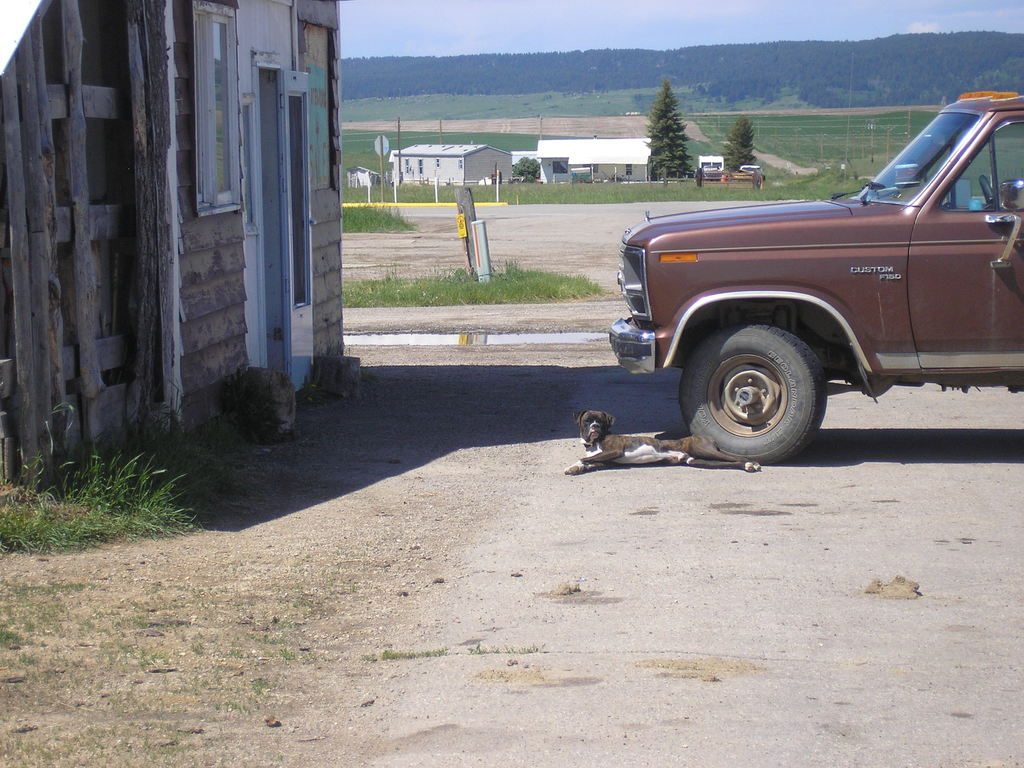mobil: (585, 75, 1024, 448)
